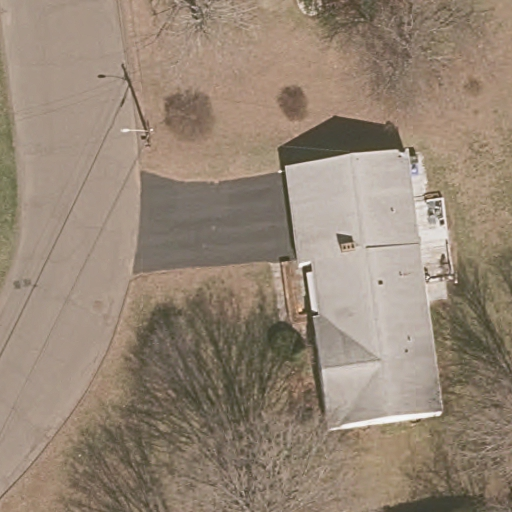DT: (120, 116, 154, 146)
